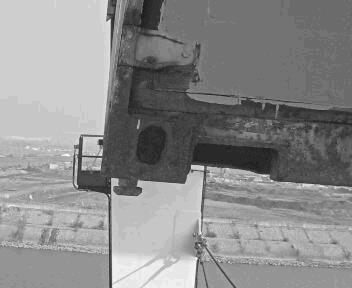twist_lock_1: (104, 172, 148, 202)
